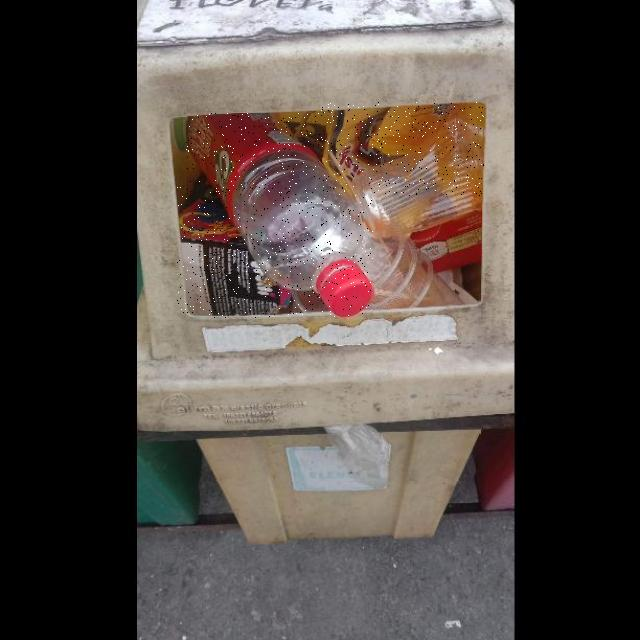paper: (178, 186, 291, 317)
plastic: (186, 114, 373, 318)
wrapper: (321, 103, 485, 196)
